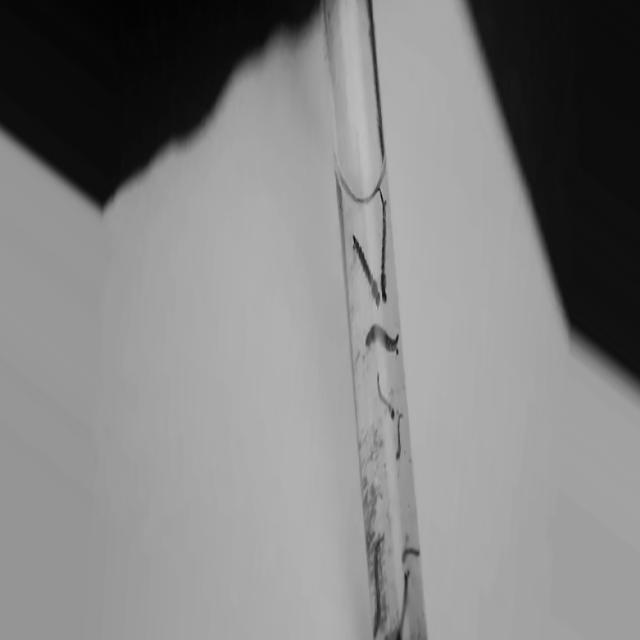larvas: (350, 230, 385, 309), (377, 195, 392, 300), (369, 536, 381, 633), (364, 325, 402, 353), (395, 573, 410, 640), (378, 374, 394, 414), (394, 410, 405, 461), (401, 546, 421, 563)
